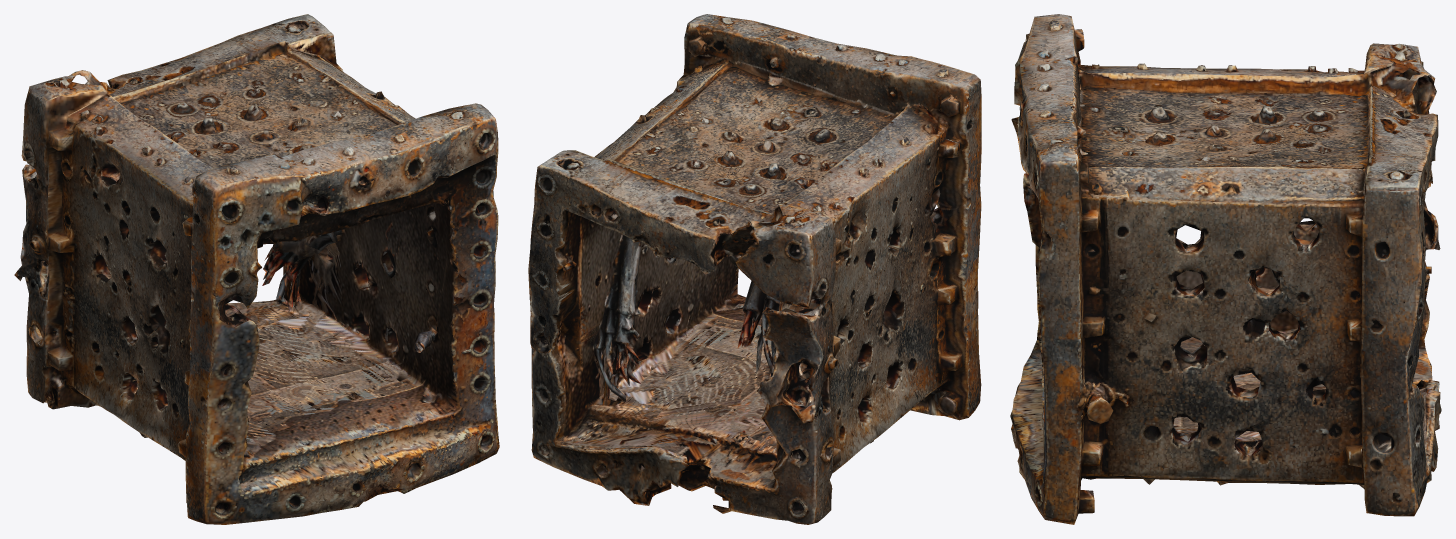
Rendered from BK_VentFrame_Wrecked.fbx.
3 views of the same model, side by side, from view 1: azimuth 30°, elevation 25°; view 2: azimuth 150°, elevation 25°; view 3: azimuth 270°, elevation 25° (orthographic). The views are drawn at different scales.
Parts seen in each view (by area): view 1: texture_mapping; view 2: texture_mapping; view 3: texture_mapping.
Part boxes in pixels (x1=…): texture_mapping: x1=14, y1=14, x2=499, y2=524; texture_mapping: x1=528, y1=14, x2=981, y2=524; texture_mapping: x1=1010, y1=14, x2=1441, y2=524.
Bounding box in the file's own units: 0.9015 × 0.9999 × 0.9697.
Materials: 1 (1 with a texture image).
